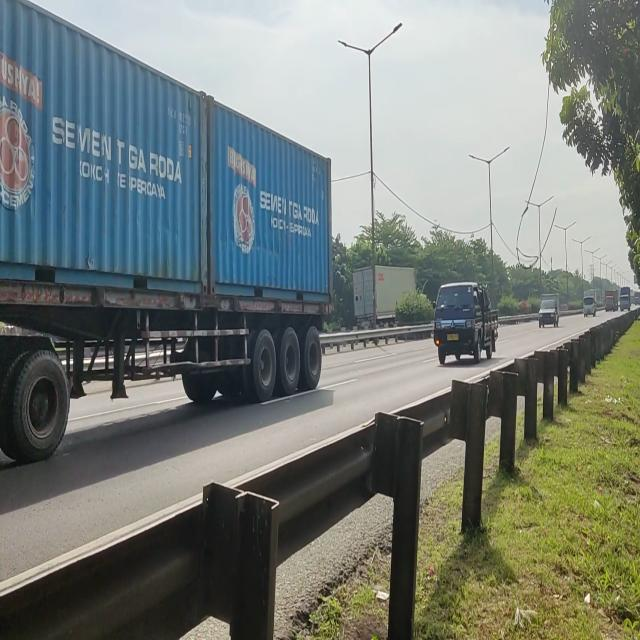Golongan I: (431, 277, 499, 365)
